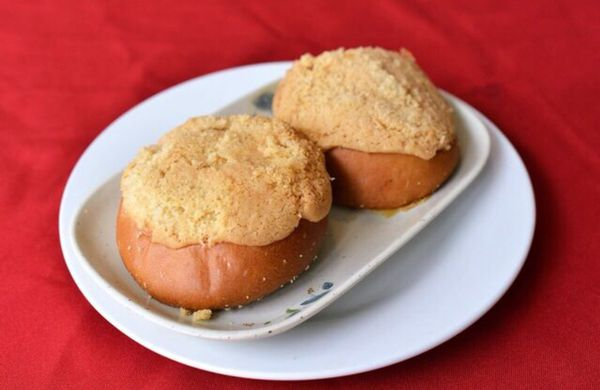curry: (28, 1, 598, 388)
salad: (117, 112, 334, 313)
